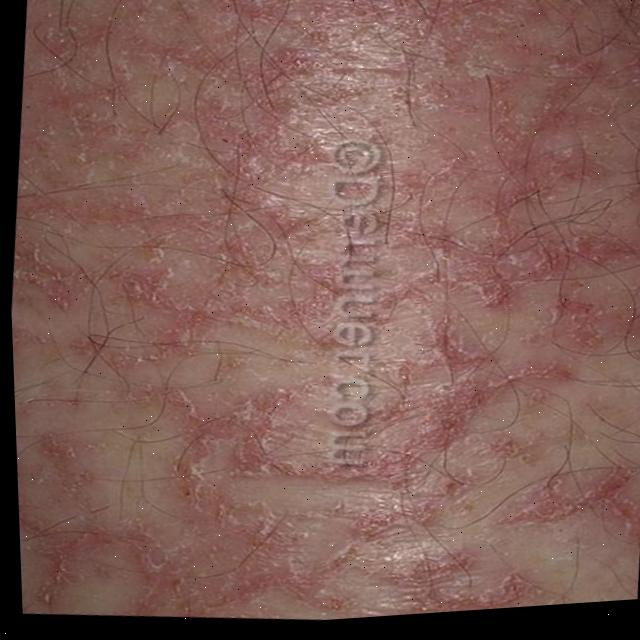Eczema: (15, 0, 640, 639)
